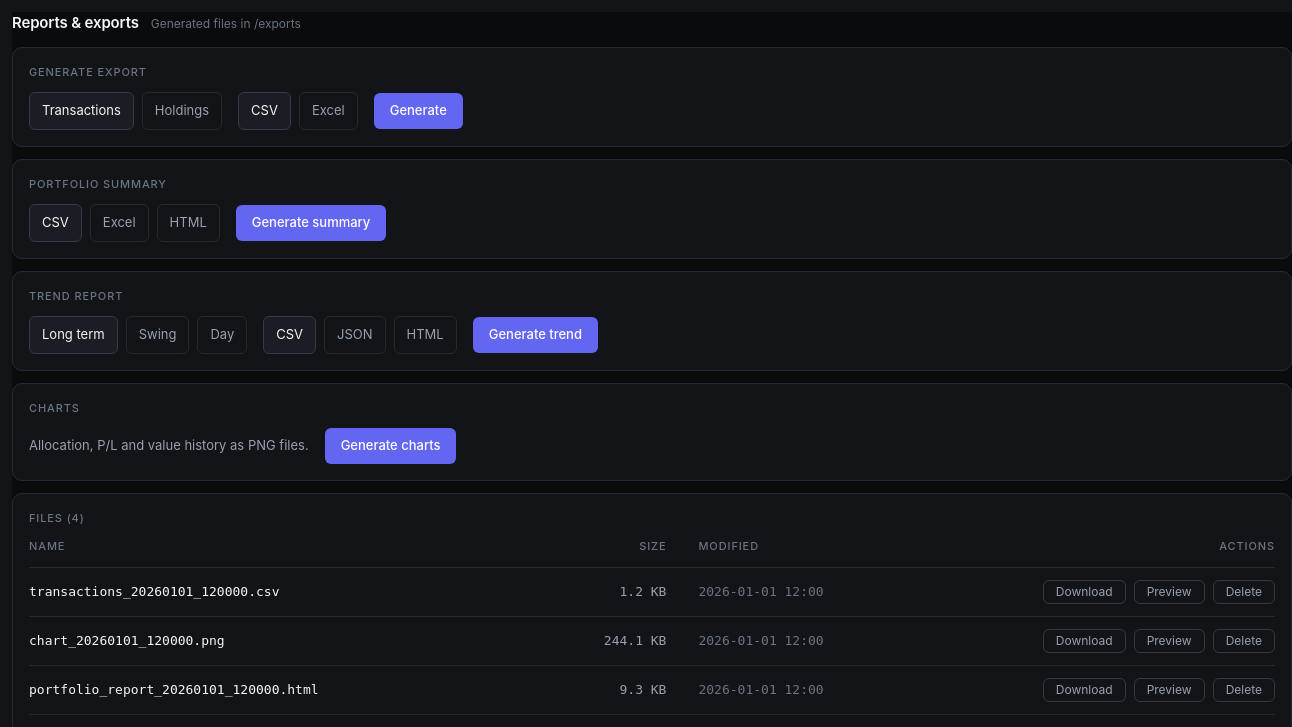
Reports summary export › posts the picked summary format and reloads the file list
The image size is (1292, 727).
Expected: the text "transactions_20260101_120000.csv" is shown, [29, 567, 544, 616]
Expected: the text "Portfolio summary" is shown, [29, 176, 167, 190]
Click the button "Excel" below "Portfolio summary".
click(119, 223)  # box [90, 204, 149, 242]
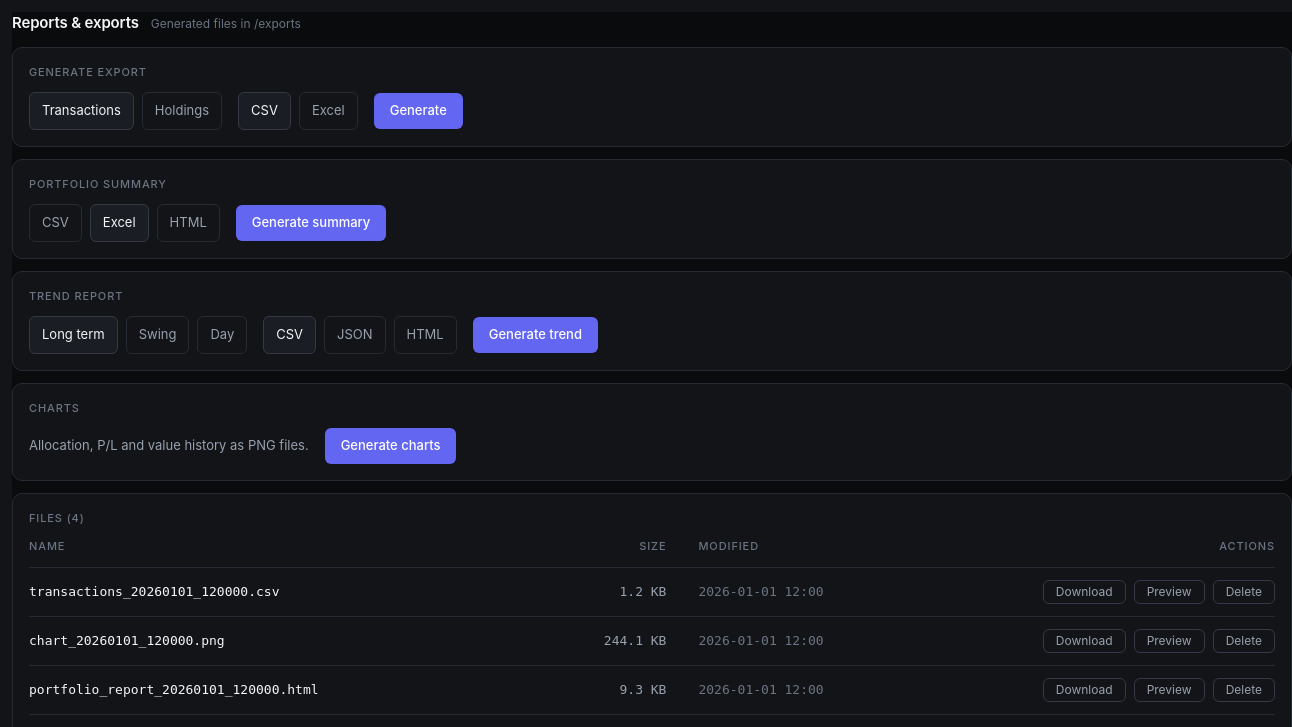
Click the button "Generate summary".
click(311, 223)  # box [236, 205, 386, 240]
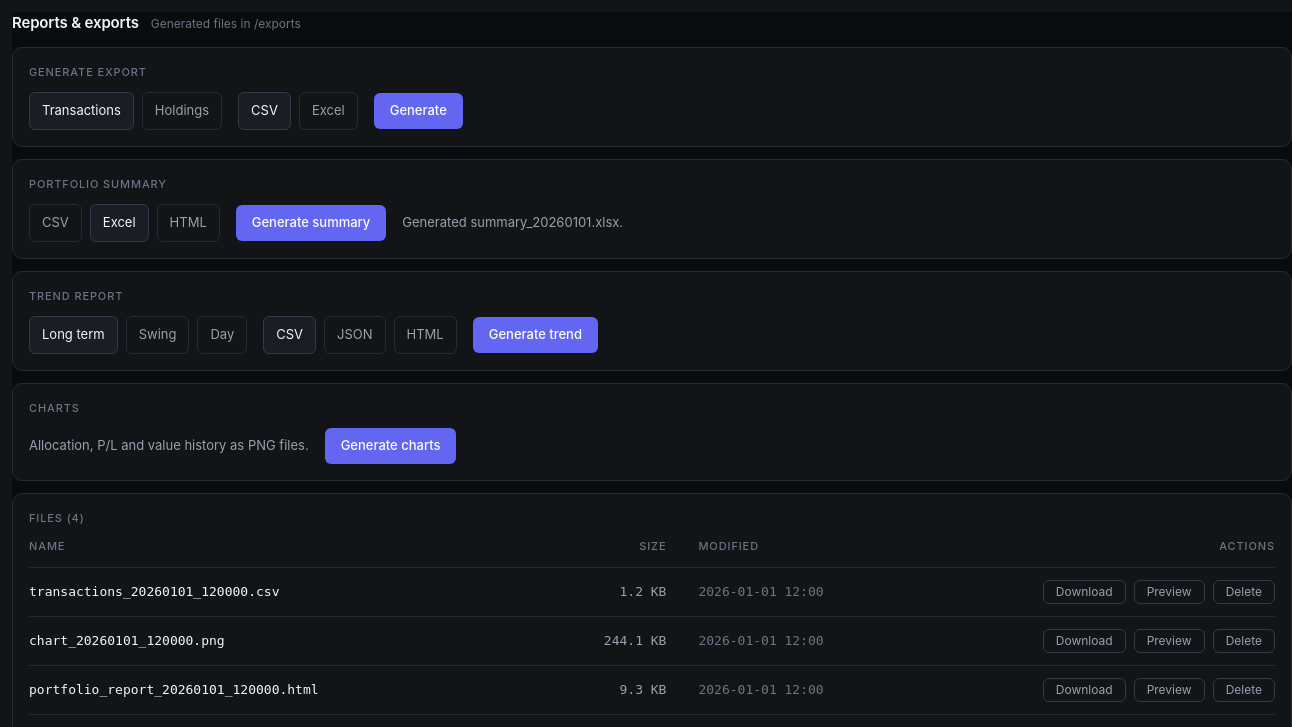
Expected: the text "Generated summary_20260101.xlsx." is shown, [402, 213, 623, 232]
